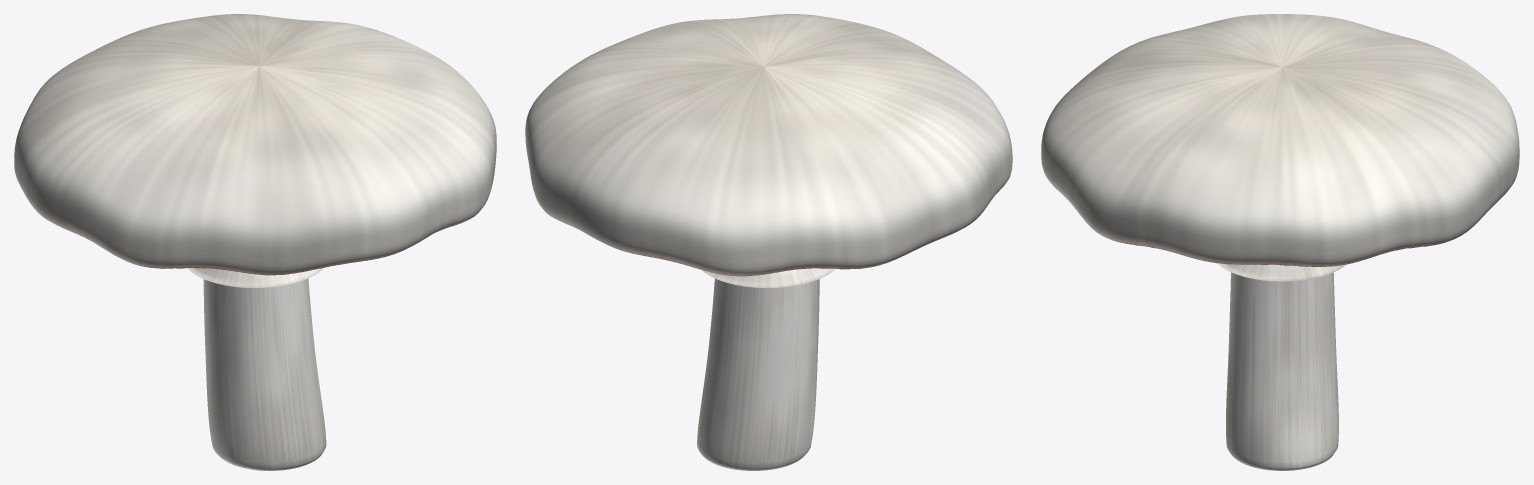
The model's file is agaricus-campestris-agg-drawn.glb.
3 views of the same model, side by side, from view 1: azimuth 30°, elevation 25°; view 2: azimuth 150°, elevation 25°; view 3: azimuth 270°, elevation 25° (orthographic). The views are drawn at different scales.
Bounding box in the file's own units: 0.8071 × 0.705 × 0.8059.
Materials: 1 (1 with a texture image).
